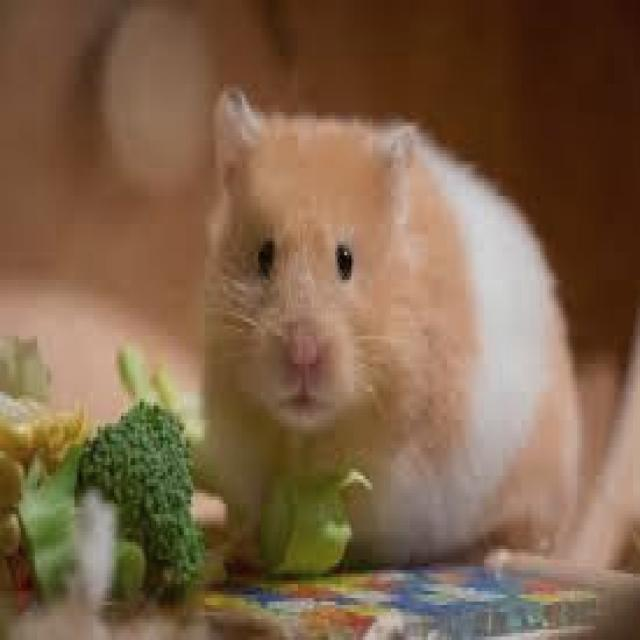hamster: (202, 87, 577, 560)
